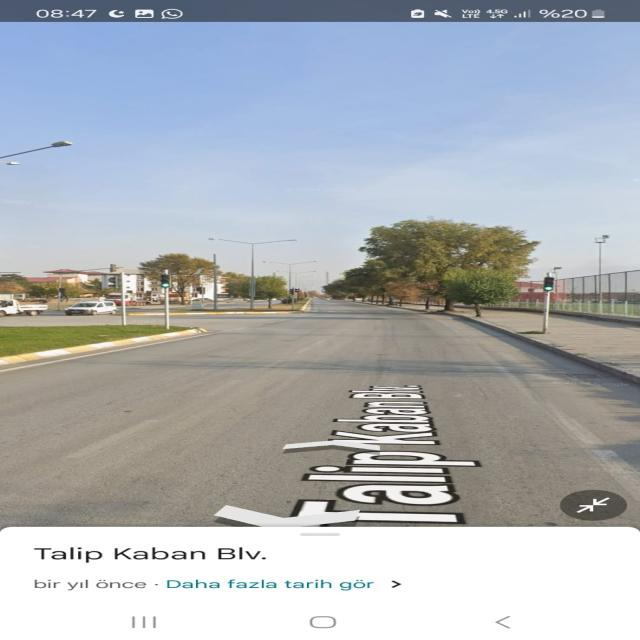yesil: (543, 277, 555, 291), (160, 275, 170, 288)
